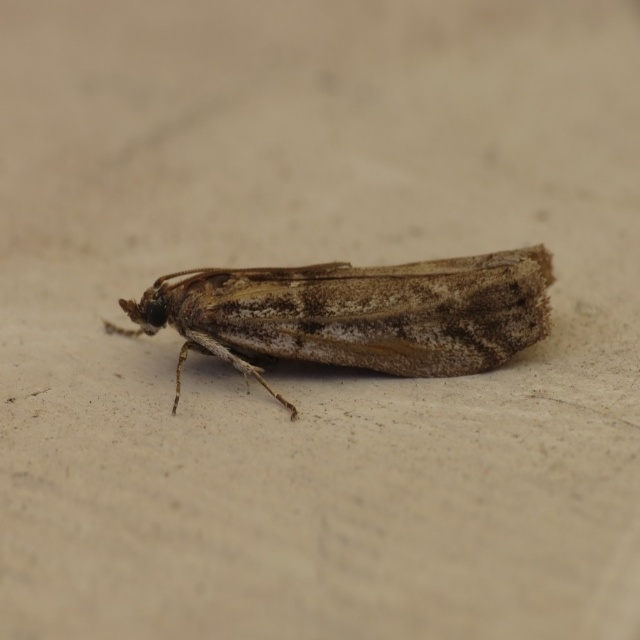Moths and butterflies: (101, 243, 560, 421)
